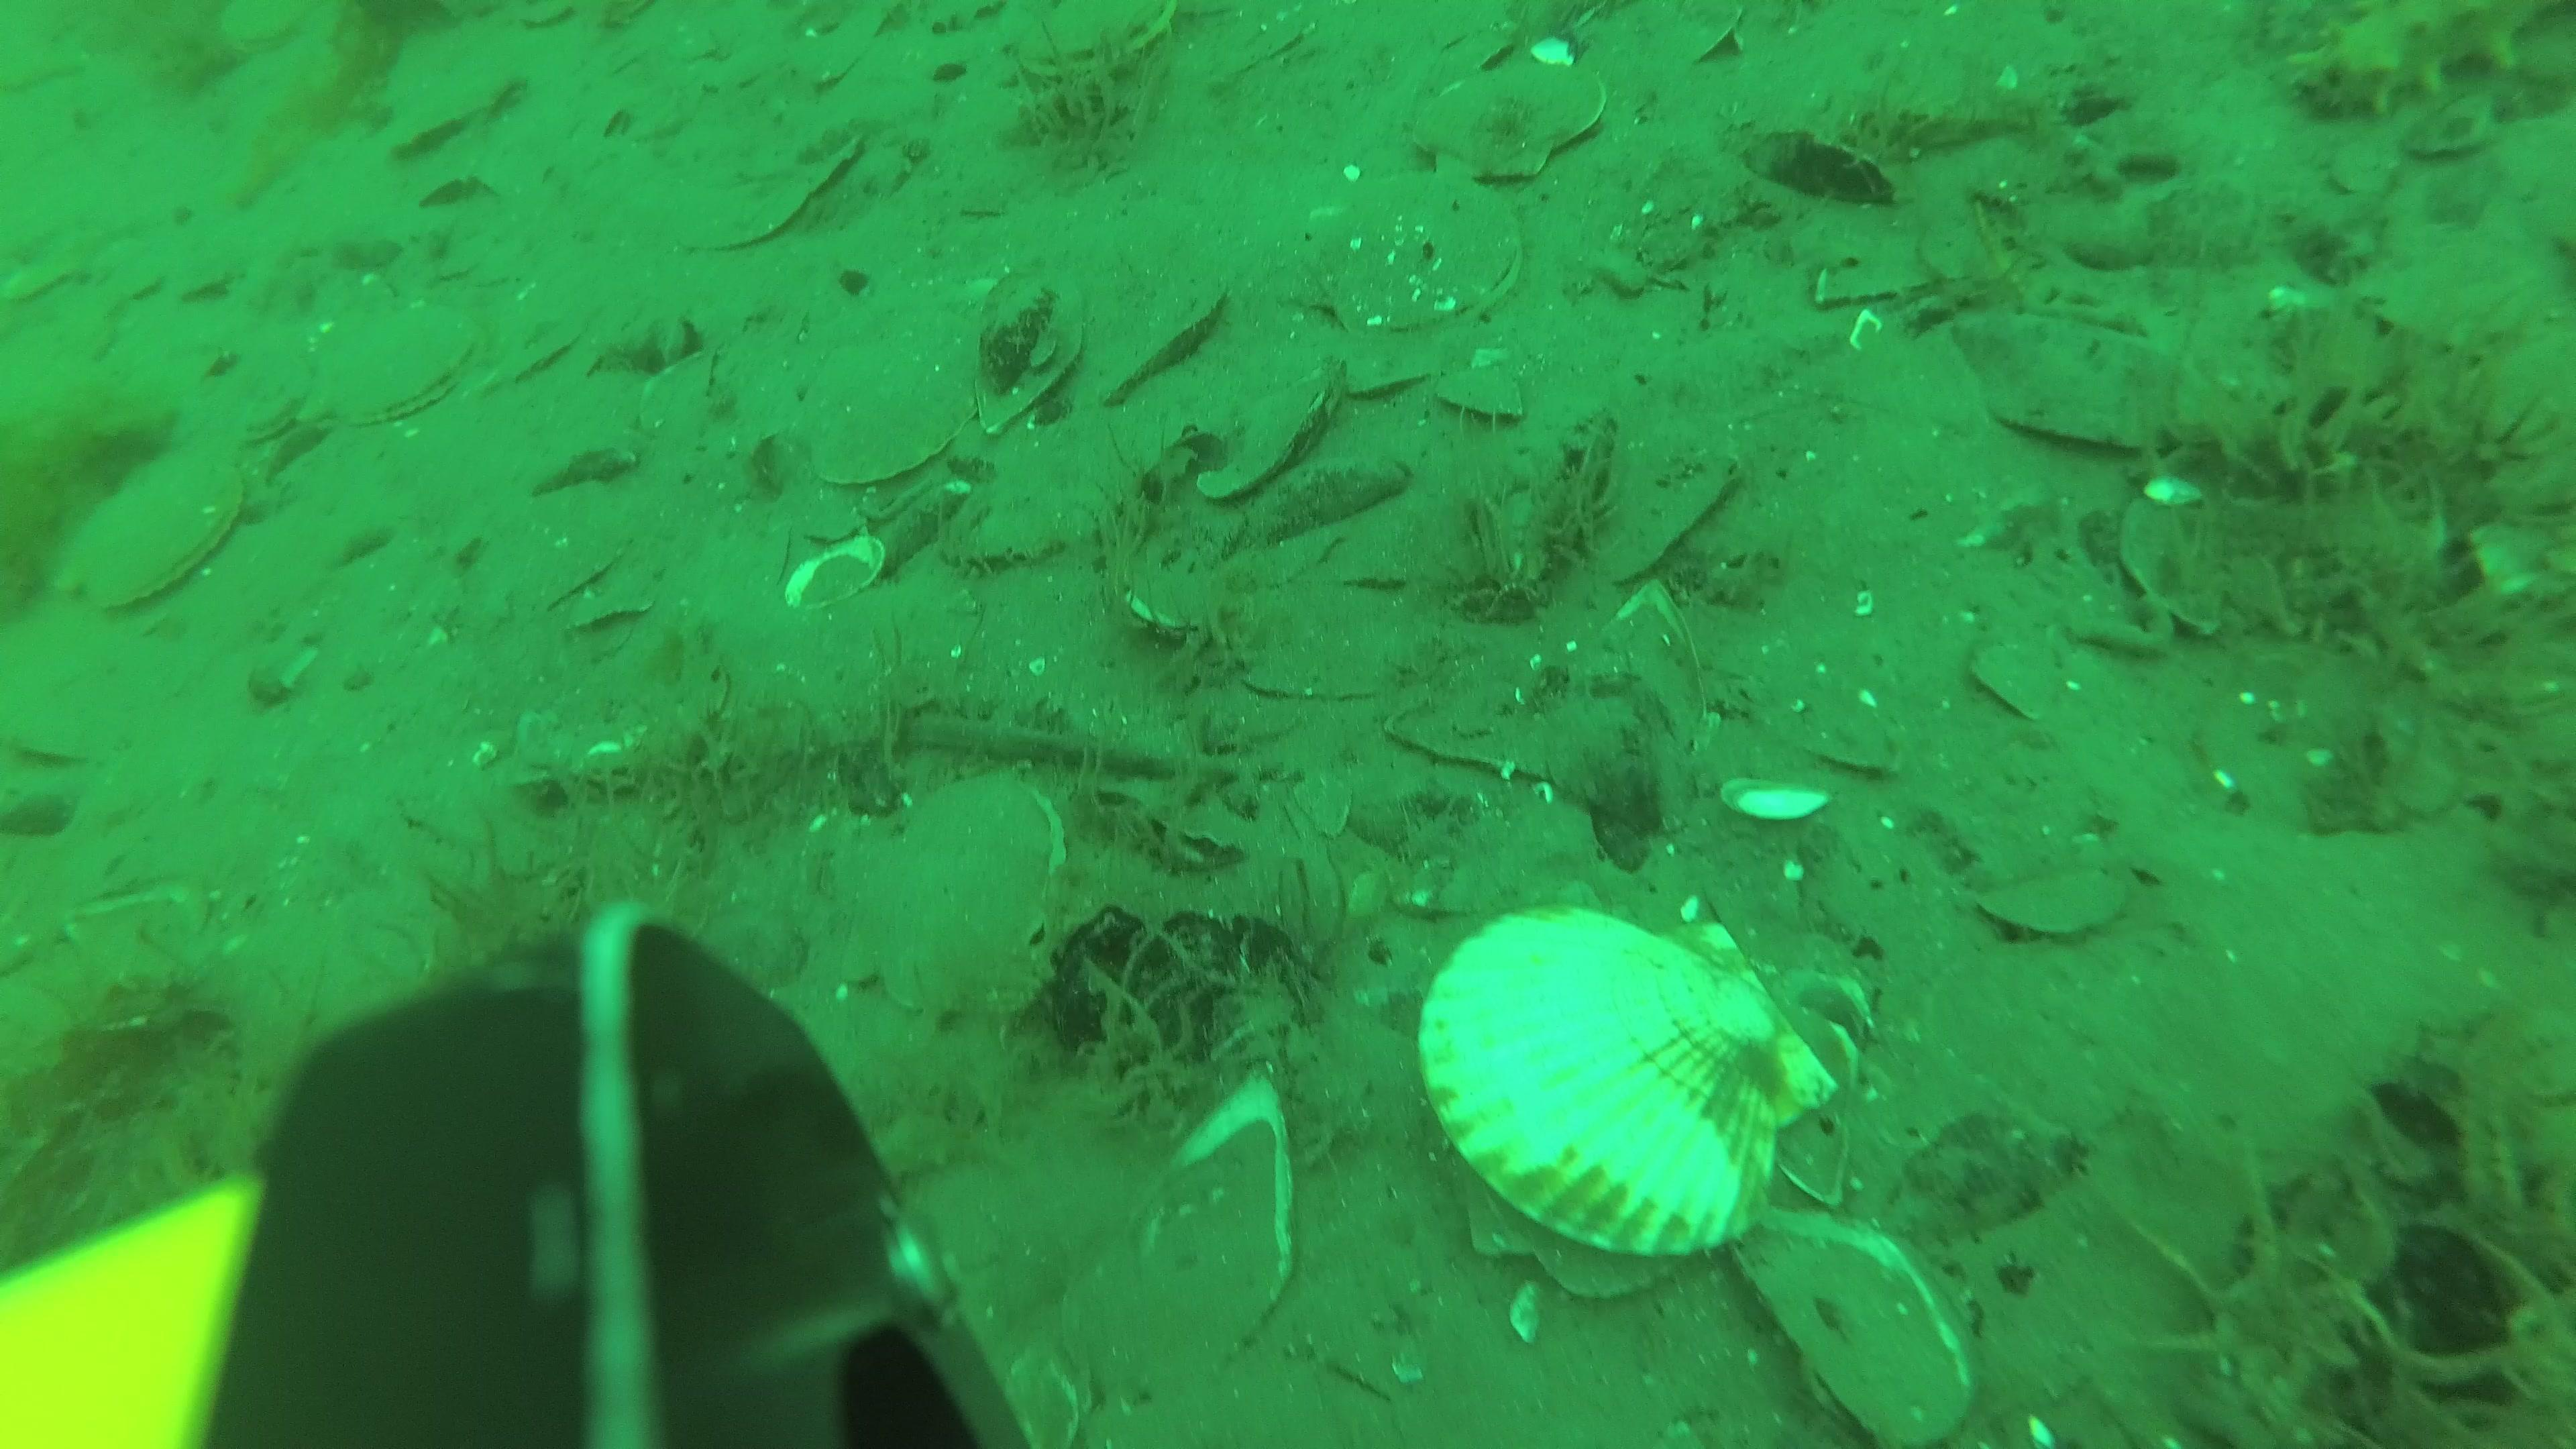scallop: (1419, 890, 1844, 1288), (814, 771, 1069, 1028), (1297, 168, 1529, 334), (812, 326, 987, 494), (60, 464, 253, 609), (1417, 51, 1608, 189), (306, 303, 479, 437), (1200, 363, 1339, 502), (1095, 272, 1230, 402), (1016, 2, 1182, 81), (1985, 865, 2139, 950), (1350, 336, 1438, 405), (1438, 357, 1532, 418)
